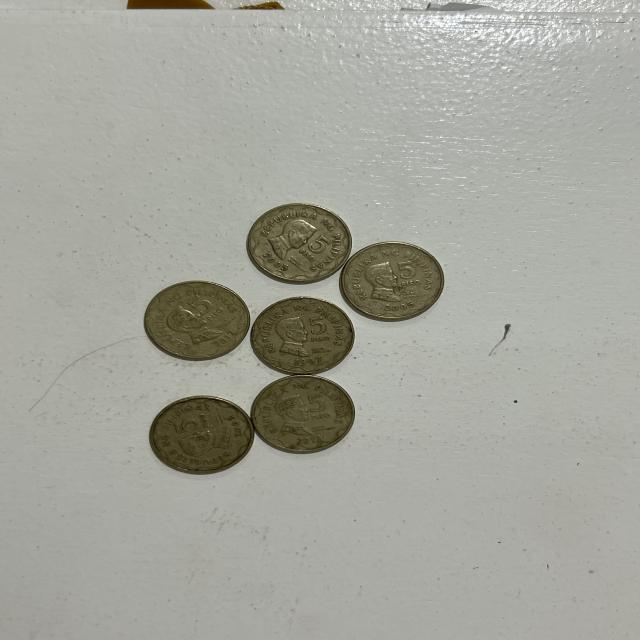5_Old_Front: (185, 297, 231, 325), (391, 257, 425, 294), (296, 230, 336, 258), (173, 411, 214, 437), (302, 391, 334, 424), (300, 315, 335, 343)
